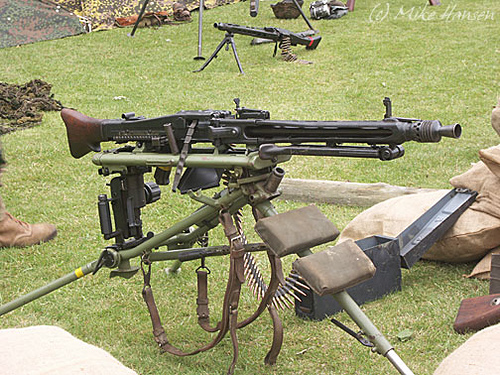rifle: (32, 97, 468, 301)
